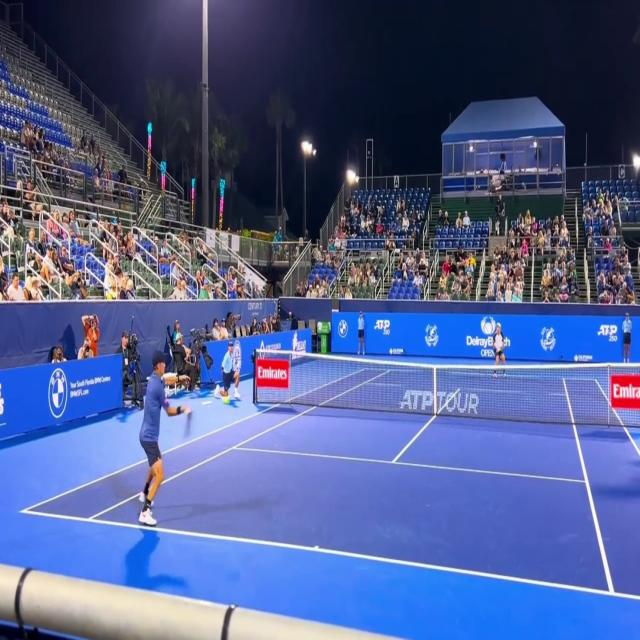tennisBall: (222, 389, 230, 411)
